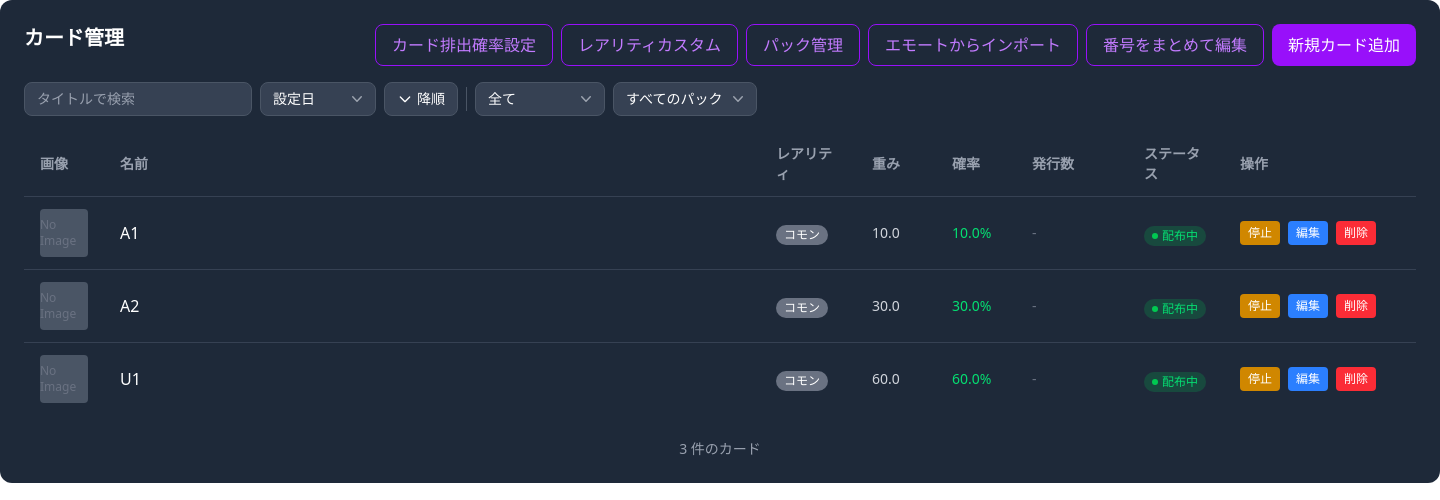
Test: CardManager pack-relative probability (Issue #565) › renormalizes within the default (unclassified) pack via the sentinel filter
Select "デフォルト" in the dropdown named "カードパックで絞り込む". click: [685, 99]
box: x1=613 y1=82 x2=757 y2=116
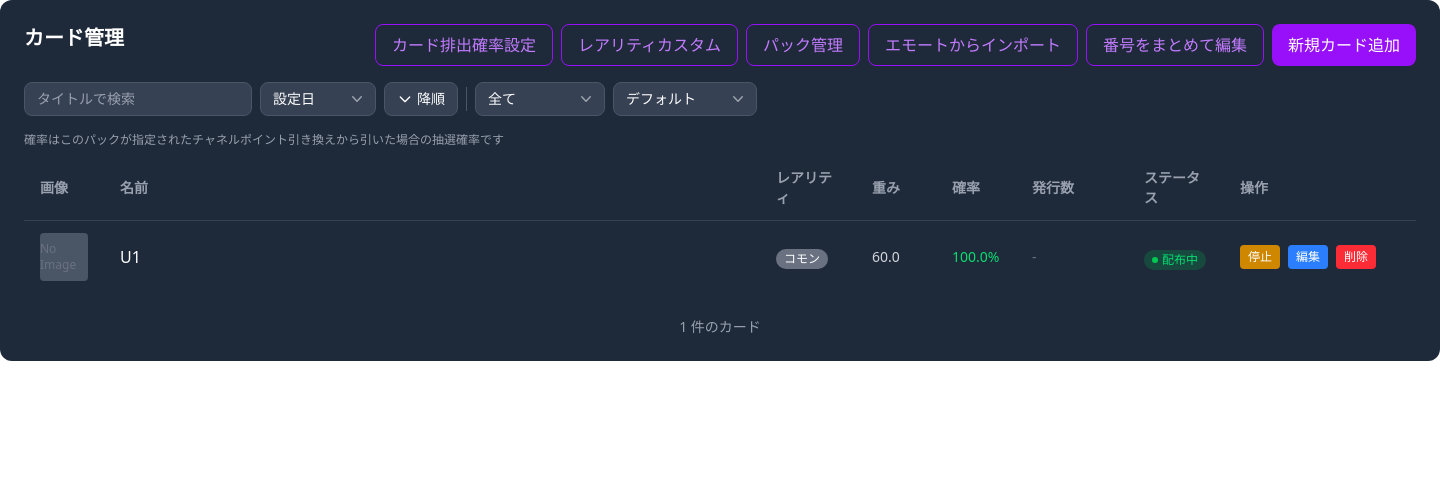
Check: the text "100.0%" is shown, box x1=936 y1=220 x2=1016 y2=293
Check: the text "確率はこのパックが指定されたチャネルポイント引き換えから引いた場合の抽選確率です" is shown, box x1=24 y1=131 x2=504 y2=148
